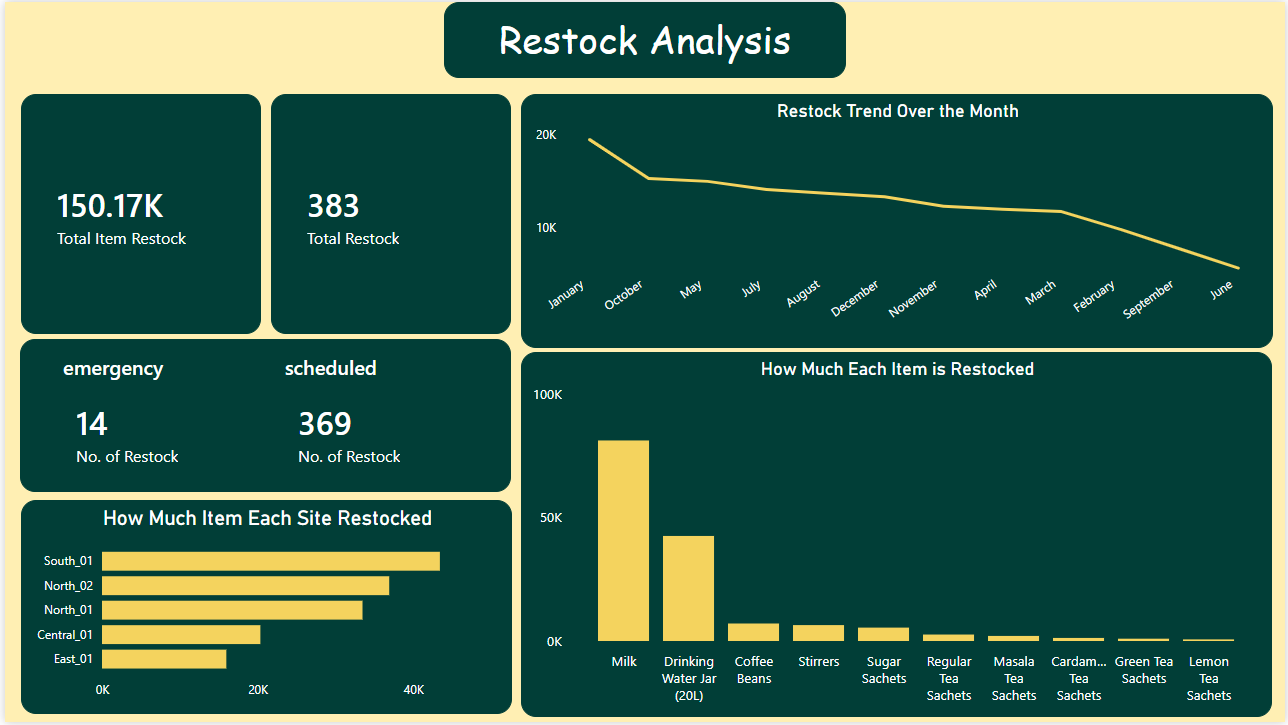

Layout of this report page (visuals, bound fields, positions):
{"tool":"powerbi","page":{"name":"Restock Analysis","canvas":[1280,720],"ordinal":2},"visuals":[{"type":"cardVisual","title":"Total Item Restock","fields":{"Data":["Sum(Inventory Balance.movement_qty)"]},"box":[16,92.4,240,240],"z":0},{"type":"cardVisual","fields":{"Data":["CountNonNull(Inventory Balance.movement_qty)"]},"box":[266.2,92.4,240,240],"z":1000},{"type":"lineChart","title":"Restock Trend Over the Month","fields":{"Y":["Sum(Restock_View.total_restock_qty)"],"Category":["Restock_View.month_name"]},"box":[516.5,92.4,751.2,253.5],"z":2000},{"type":"clusteredColumnChart","title":"How Much Each Item is Restocked","fields":{"Category":["Restock_View.item_name"],"Y":["Sum(Restock_View.total_restock_qty)"]},"box":[516.5,350.2,750.9,364.7],"z":3000},{"type":"clusteredBarChart","title":"How Much Item Each Site Restocked","fields":{"Category":["Restock_View.site_id"],"Y":["Sum(Restock_View.total_restock_qty)"]},"box":[15.6,498,491.2,214],"z":4000},{"type":"textbox","box":[438.7,0,402.7,75.6],"z":5000},{"type":"cardVisual","fields":{"Rows":["Restock_View.restock_type"],"Data":["Sum(Restock_View.restock_count)"]},"box":[15,337,491,153],"z":6000}]}

Visuals, with their boxes in screenshot pixels (x1, y1, x2, y2), scaled from the page's 1280x720 canvas onto the 1288x725 screenshot:
"Total Item Restock" cardVisual: <box>16,93,258,335</box>
cardVisual - CountNonNull(Inventory Balance.movement_qty): <box>268,93,509,335</box>
"Restock Trend Over the Month" lineChart: <box>520,93,1276,348</box>
"How Much Each Item is Restocked" clusteredColumnChart: <box>520,353,1275,720</box>
"How Much Item Each Site Restocked" clusteredBarChart: <box>16,501,510,717</box>
textbox: <box>441,0,847,76</box>
cardVisual - Restock_View.restock_type x Sum(Restock_View.restock_count): <box>15,339,509,493</box>
